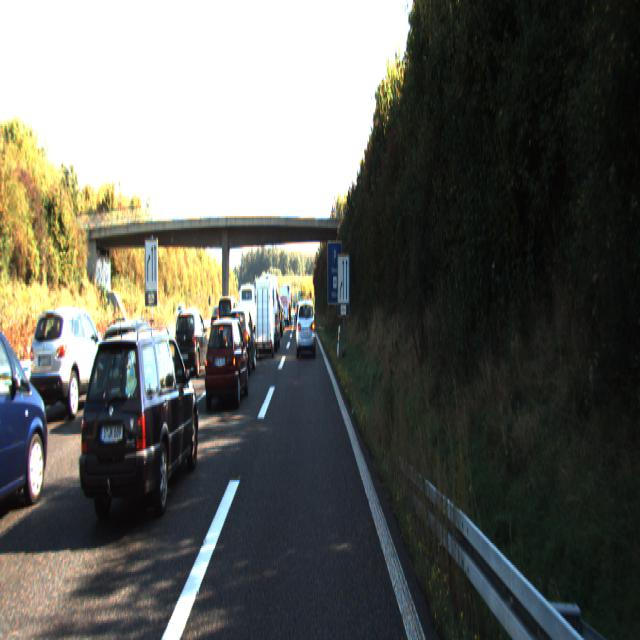Car: (76, 323, 202, 538), (0, 306, 55, 528), (30, 305, 111, 422), (96, 317, 171, 429), (203, 316, 250, 409), (172, 308, 210, 378), (225, 304, 256, 375), (252, 278, 276, 360), (257, 271, 280, 349), (296, 296, 315, 356), (278, 285, 290, 326)
